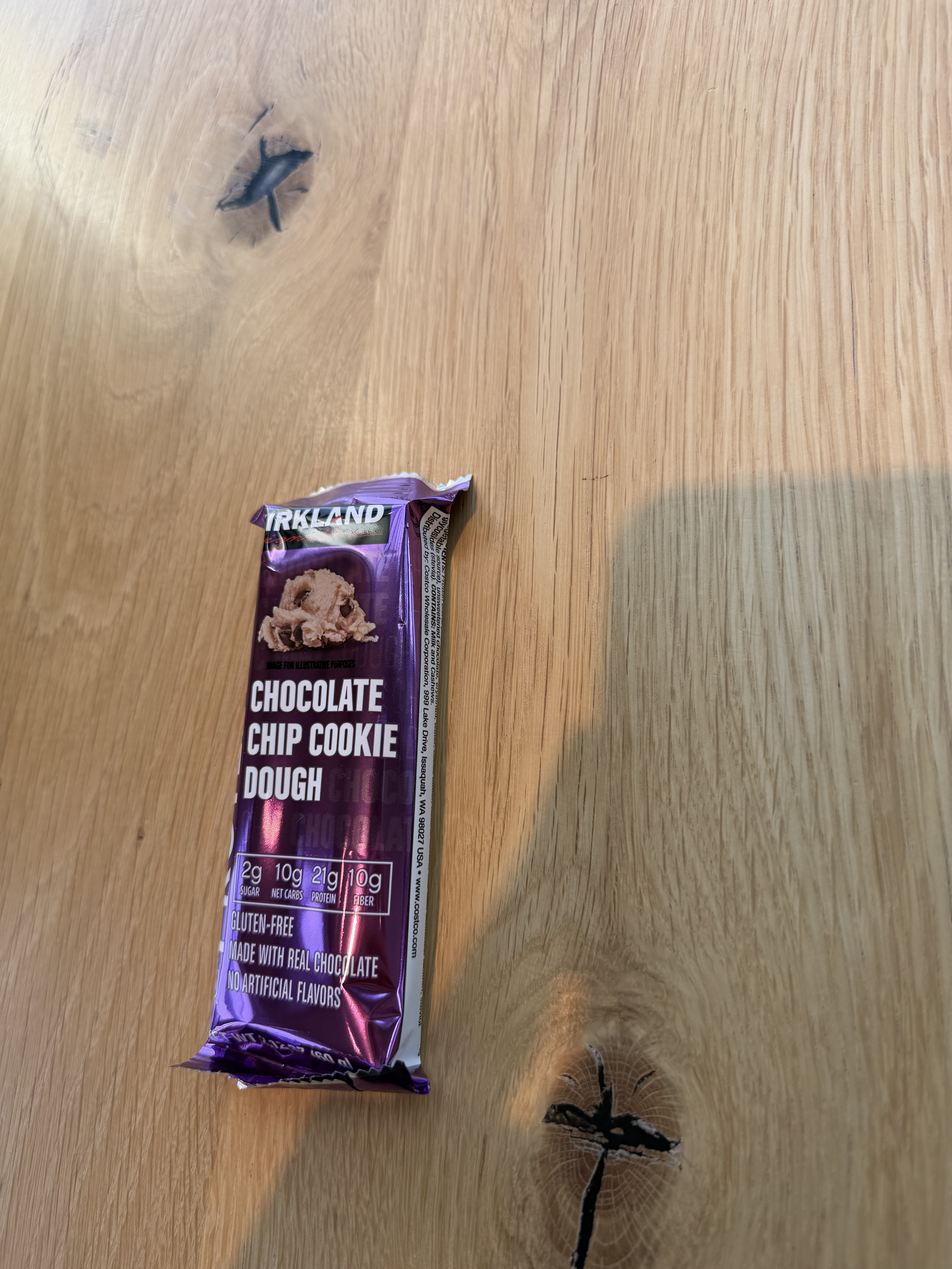chocolate_chip_cookie_dough: (203, 460, 460, 1110)
